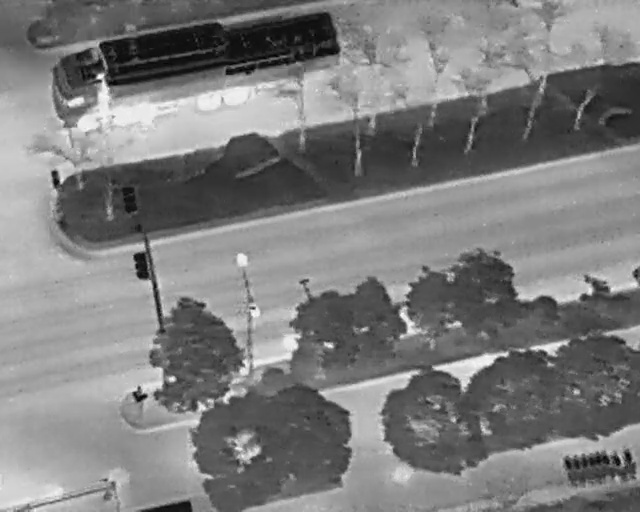Bicycle: (619, 445, 639, 481), (608, 450, 627, 482), (562, 455, 577, 487), (569, 453, 584, 485), (576, 451, 591, 483), (584, 451, 599, 483), (592, 449, 607, 481), (599, 450, 614, 482)
OtherVehicle: (44, 0, 347, 133)
Person: (130, 383, 147, 421)
